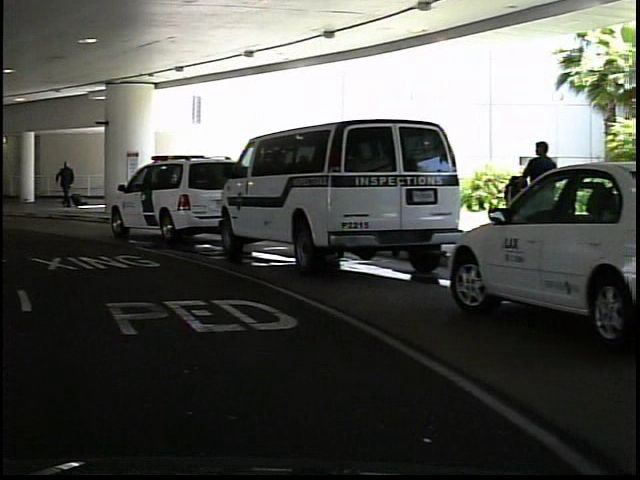person: (514, 136, 559, 261), (50, 155, 77, 215)
